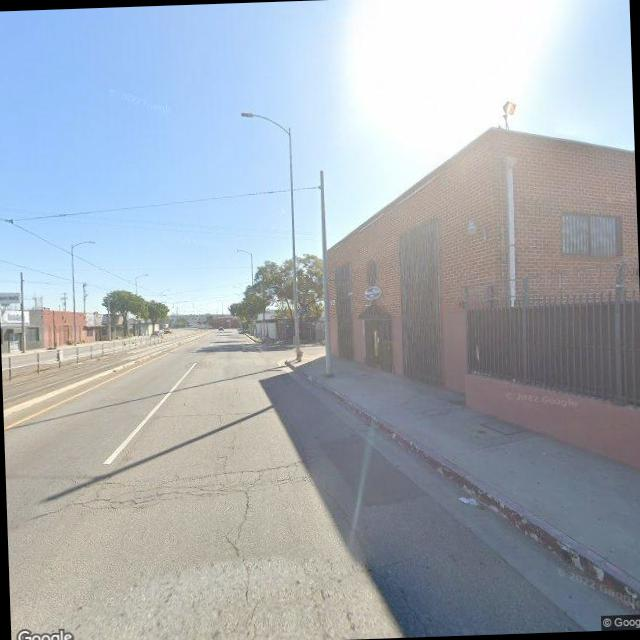crack: (29, 454, 314, 518)
pothole: (220, 478, 266, 640)
